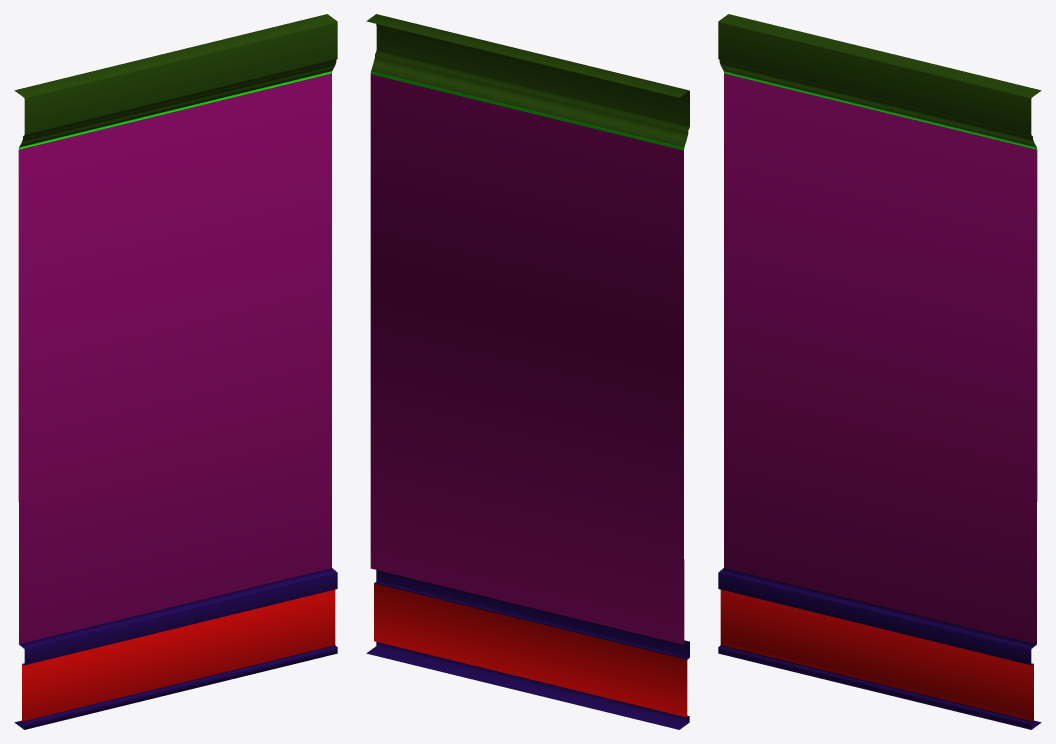
Rendered from testwallfbx.fbx.
3 views of the same model, side by side, from view 1: azimuth 30°, elevation 25°; view 2: azimuth 150°, elevation 25°; view 3: azimuth 330°, elevation 25° (orthographic).
Visible parts, largest first — view 1: Inner Wall Short.001; view 2: Inner Wall Short.001; view 3: Inner Wall Short.001.
Part boxes in pixels (<box>): Inner Wall Short.001: <box>14,14,337,729</box>; Inner Wall Short.001: <box>366,14,689,729</box>; Inner Wall Short.001: <box>718,14,1041,729</box>.
Size of the model in its own units: 8.13 by 15.67 by 0.4658.
